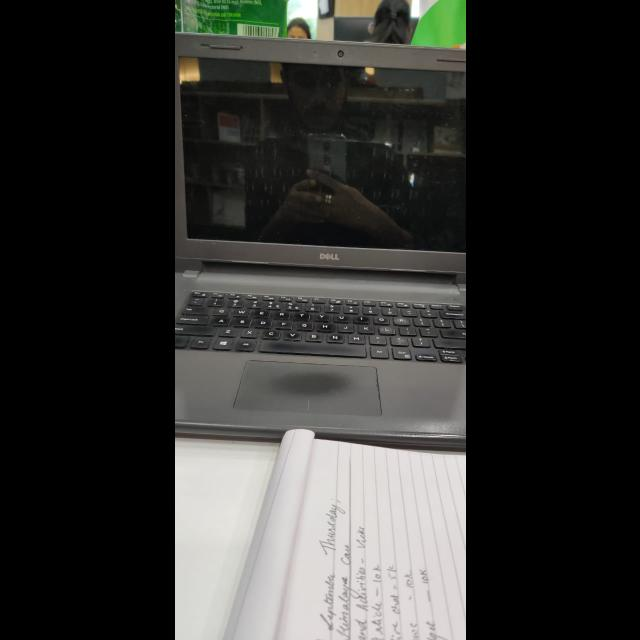Laptop: (175, 26, 465, 456)
